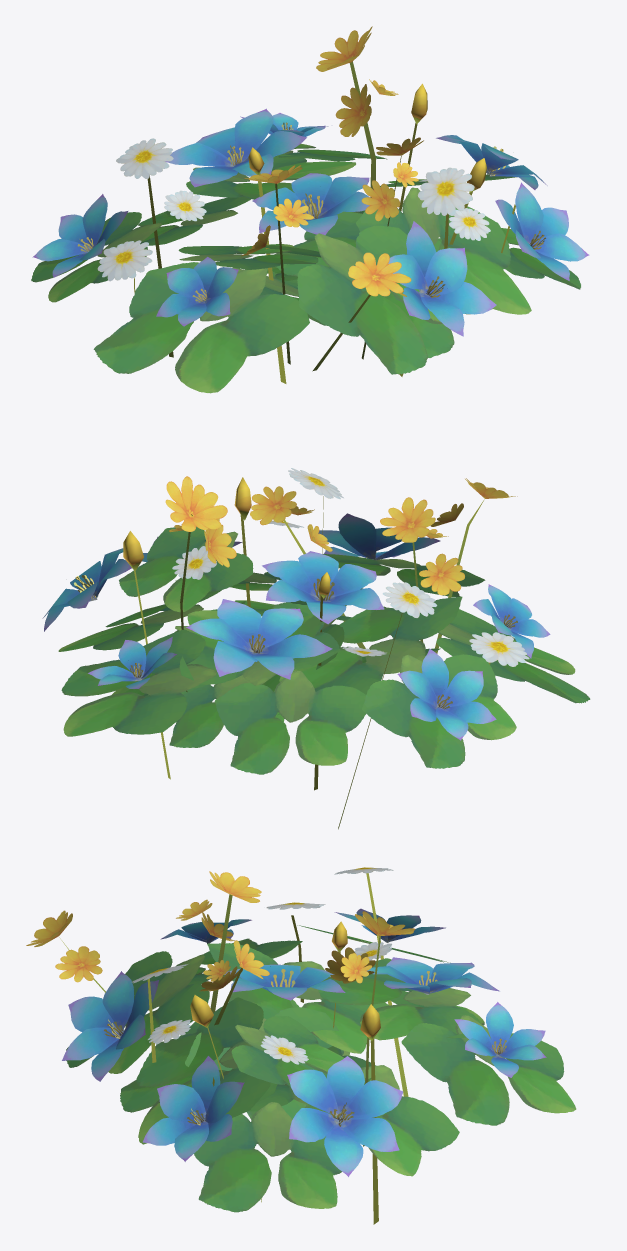
File: Area_MdProps_Flower11_Vo.fbx
3 views of the same model, one above another, from view 1: azimuth 30°, elevation 25°; view 2: azimuth 150°, elevation 25°; view 3: azimuth 270°, elevation 25° (orthographic).
Parts seen in each view (by area): view 1: Area_MdProps_Flower11_Vo; view 2: Area_MdProps_Flower11_Vo; view 3: Area_MdProps_Flower11_Vo.
Boxes of the visible parts, x1,y1,x2,y2 form: Area_MdProps_Flower11_Vo: [31, 26, 589, 393]; Area_MdProps_Flower11_Vo: [42, 468, 590, 829]; Area_MdProps_Flower11_Vo: [26, 867, 576, 1224].
Bounding box in the file's own units: 0.958 × 0.5146 × 0.8919.
1 material, 1 textured.
